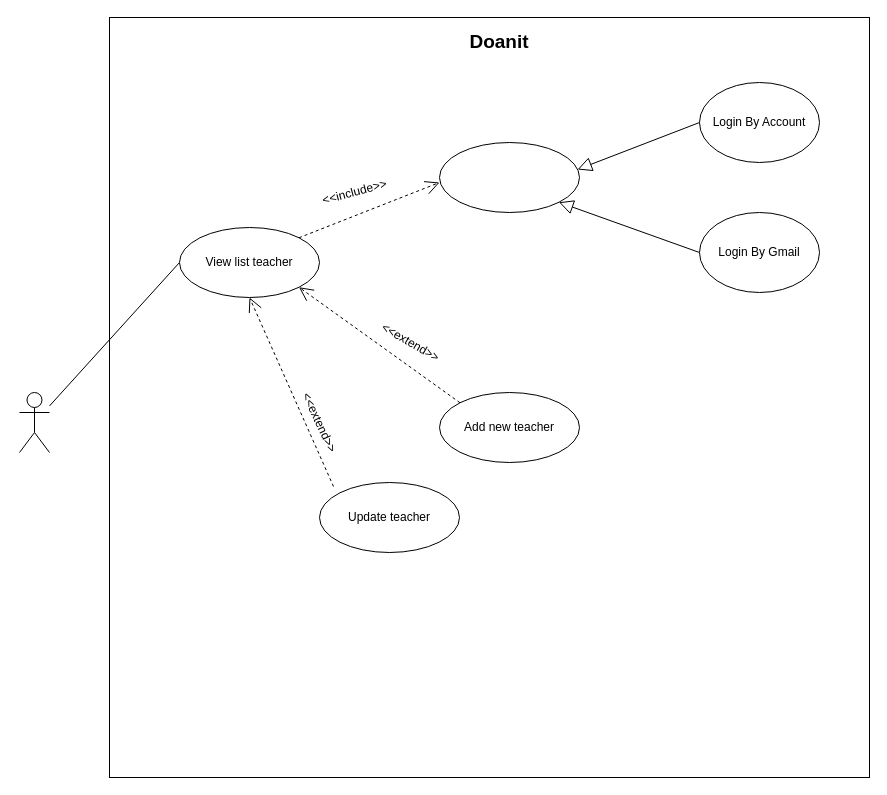
Image size: 887x795. Some labels were removed from this diagram. The shapes that lost their labels are listed below. From the top down, each one's centre as x and y in pixels, then its label:
At point (509, 177): "Login".
At point (34, 422): "Admin".
